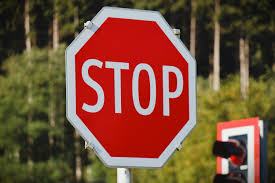Stop Signal: (65, 6, 211, 170)
